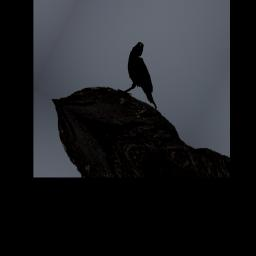Crow: (112, 38, 179, 114)
